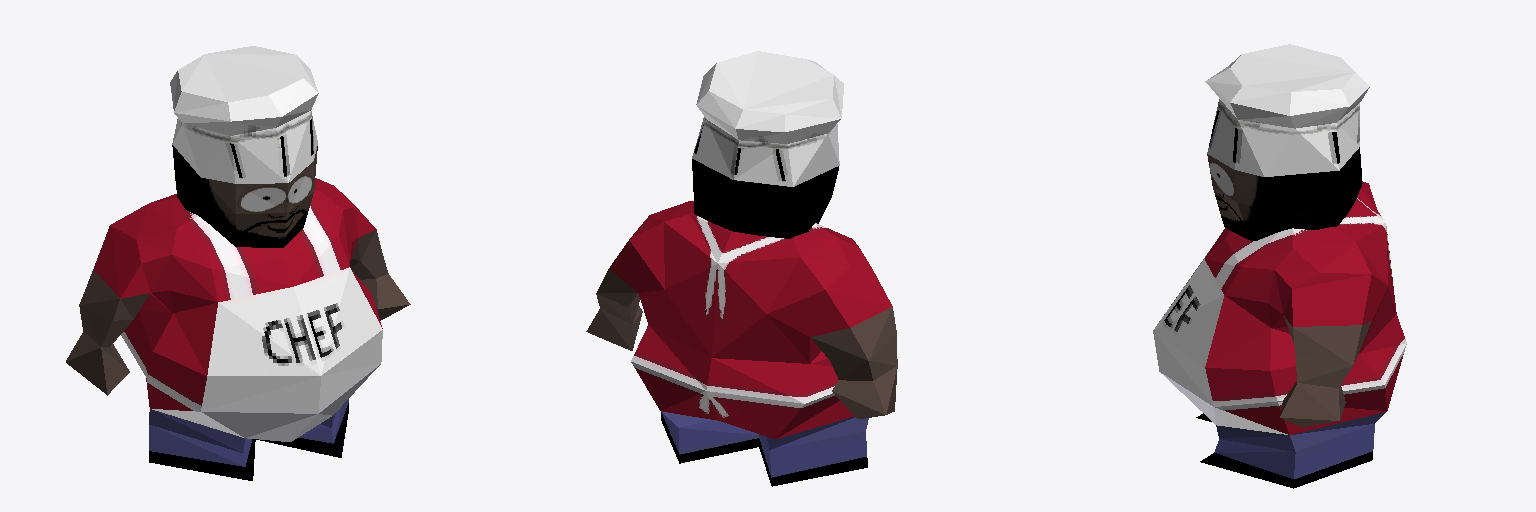
The picture shows the model from 3 angles: view 1: azimuth 30°, elevation 25°; view 2: azimuth 150°, elevation 25°; view 3: azimuth 270°, elevation 25°; orthographic projection.
Visible parts, largest first — view 1: DrawCall_8_materi.004; view 2: DrawCall_8_materi.004; view 3: DrawCall_8_materi.004.
Part boxes in pixels (bbox=[...]): DrawCall_8_materi.004: bbox=[66, 46, 410, 480]; DrawCall_8_materi.004: bbox=[586, 51, 897, 486]; DrawCall_8_materi.004: bbox=[1153, 44, 1406, 488].
Bounding box in the file's own units: 1.07 × 1.23 × 0.7617.
Materials: 6 (6 with a texture image).